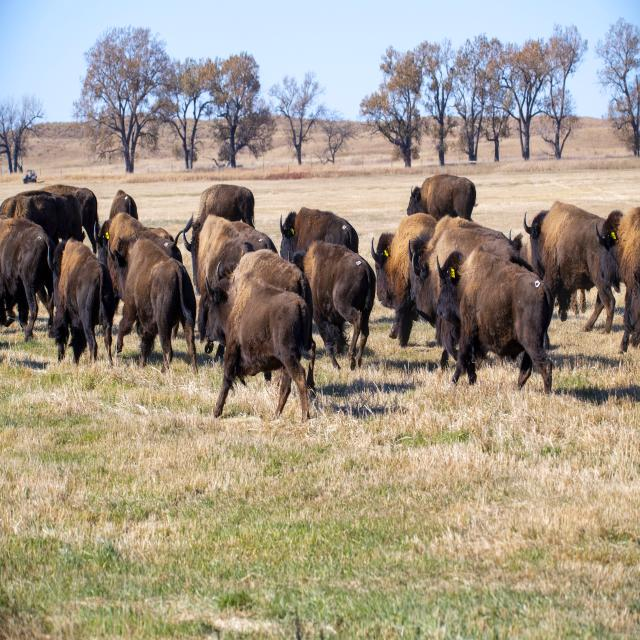bison: (410, 216, 532, 361), (437, 243, 554, 394), (200, 263, 312, 420), (523, 202, 615, 333), (111, 232, 197, 371), (183, 214, 277, 341), (371, 213, 437, 346), (50, 239, 116, 365), (96, 212, 182, 300), (597, 207, 640, 353), (280, 207, 359, 260), (407, 174, 476, 220), (215, 293, 223, 302)
